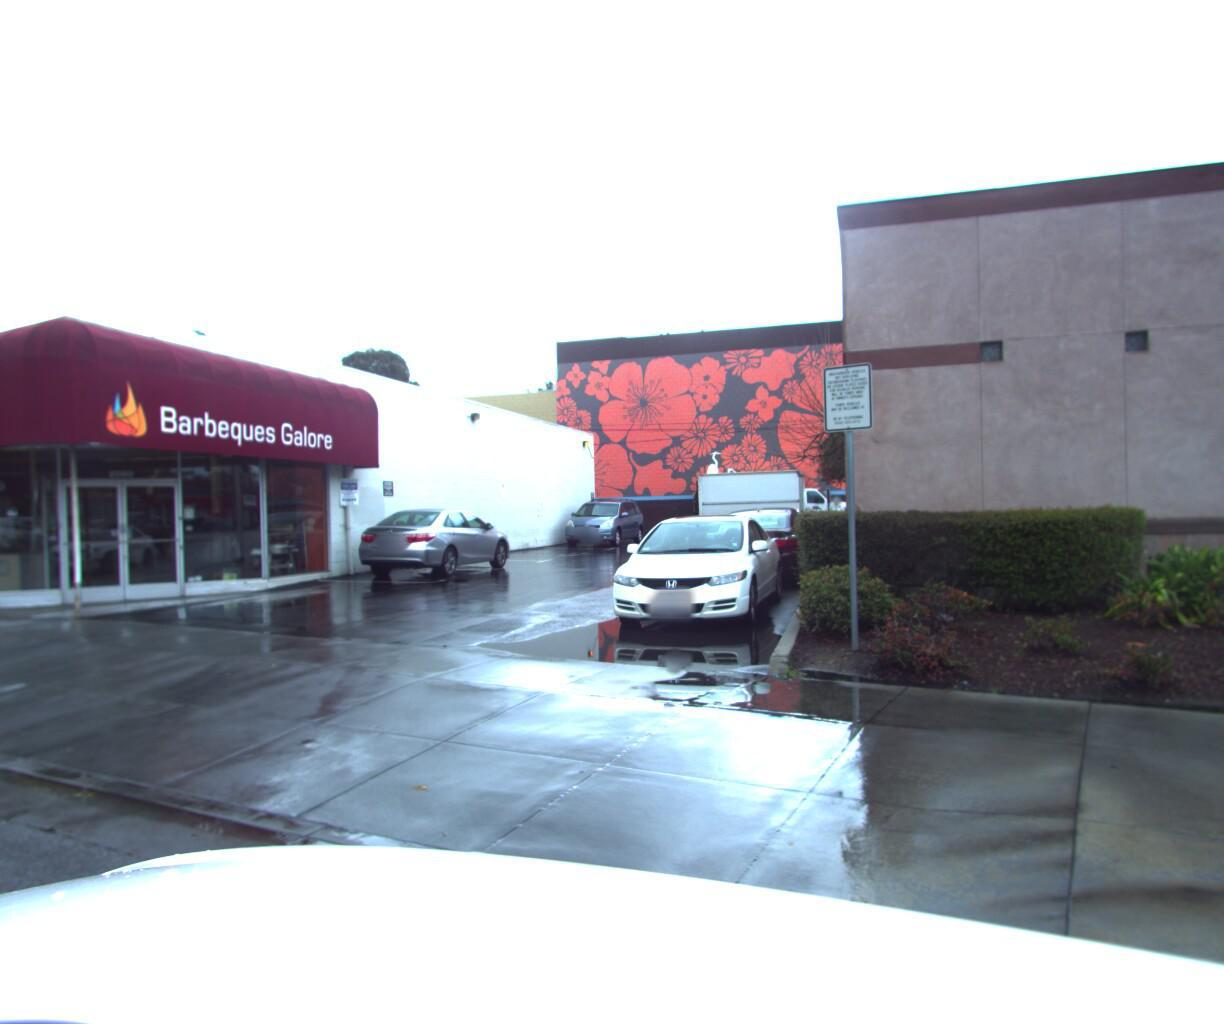car: (588, 507, 783, 637), (346, 509, 516, 596)
